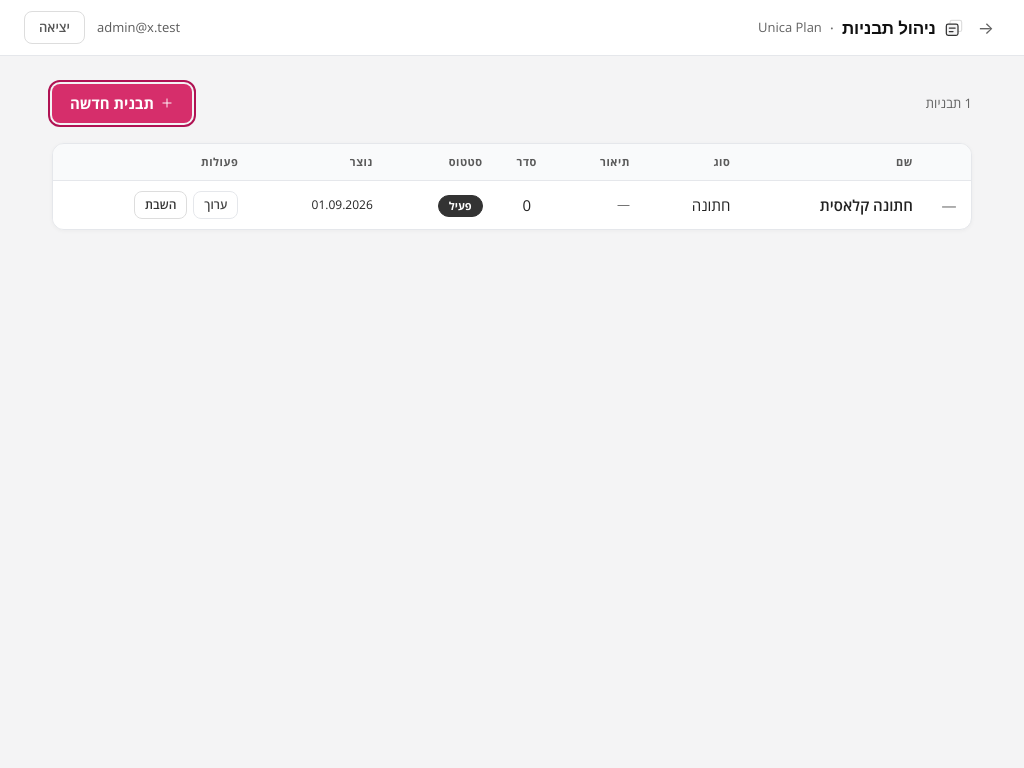
Test case: admin templates — the form is a real modal dialog › Escape closes it and focus goes back to the opener
Expected: the text "חתונה קלאסית" is shown, [744,180,927,229]
Click the button "תבנית חדשה": (122, 103) [52,84,192,122]
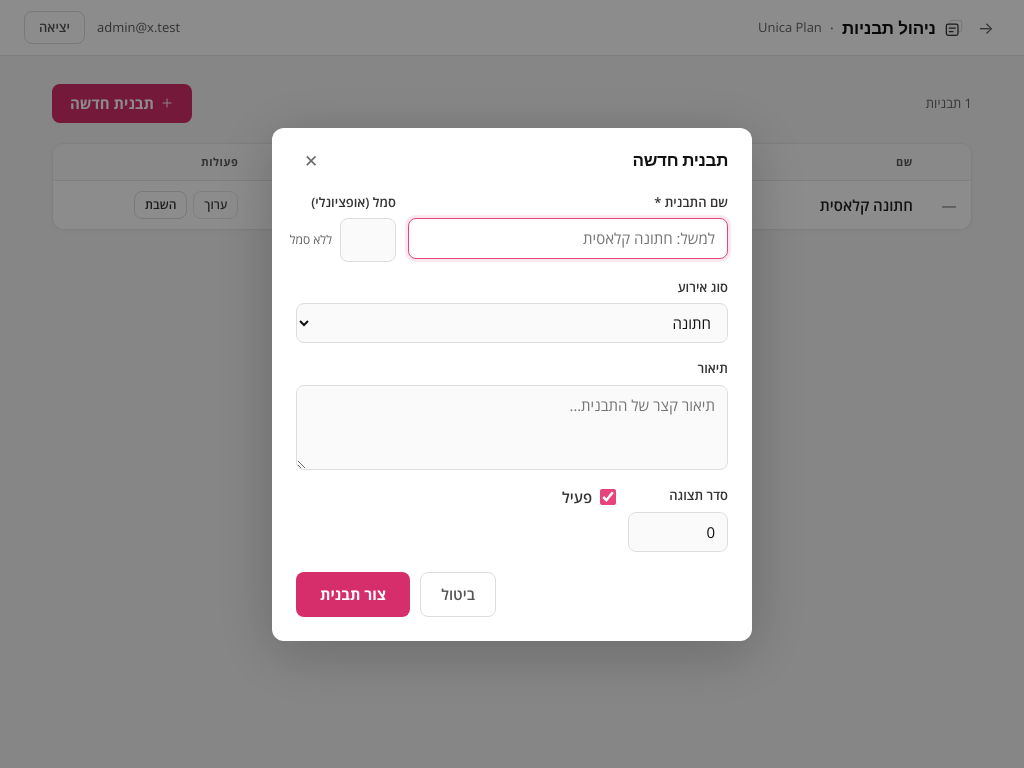
Press Escape
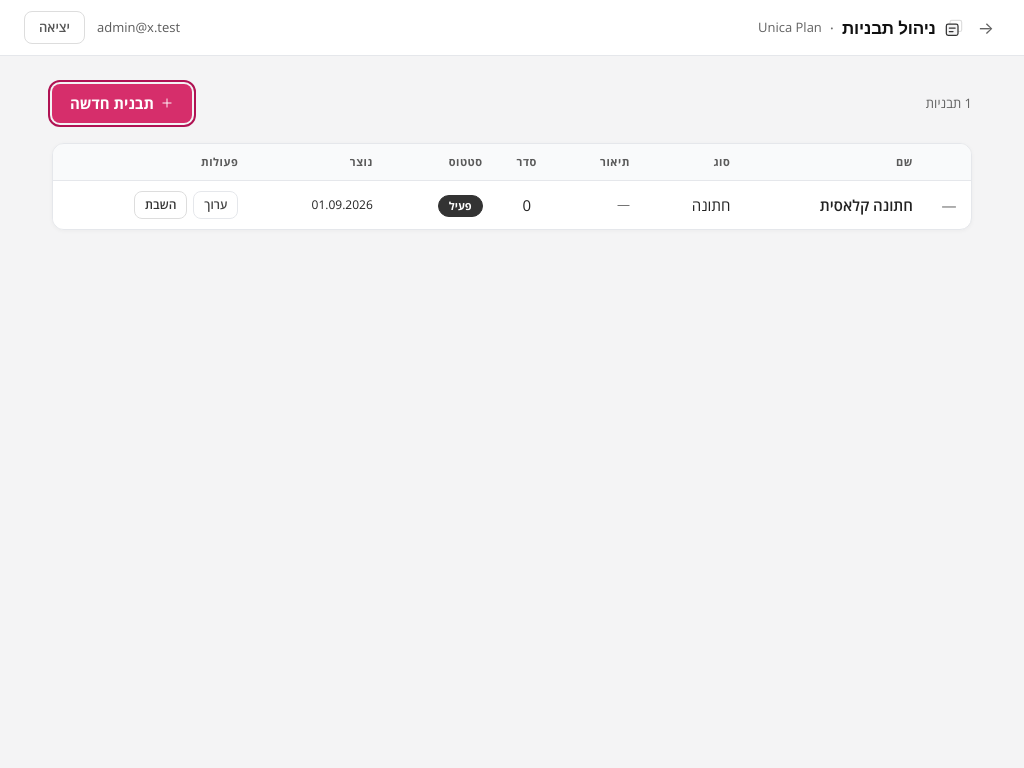
Now the dialog is gone
